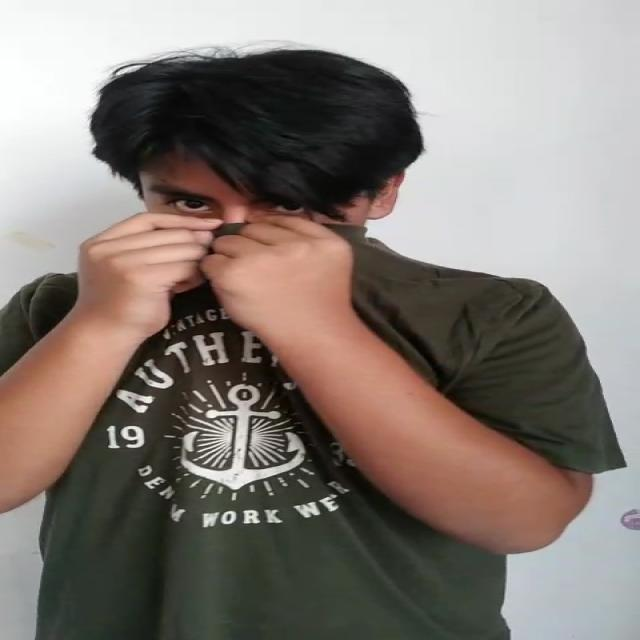8_ropa_rostro: (131, 216, 500, 342)
